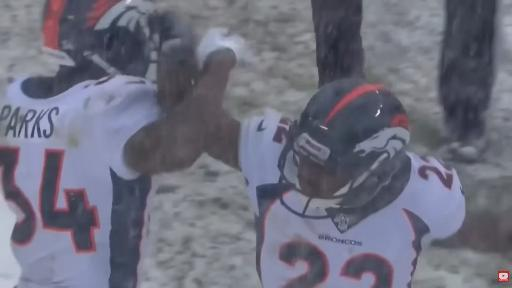Helmet: (278, 78, 409, 216), (43, 0, 159, 79)
Jersey: (239, 111, 465, 287), (0, 76, 159, 287), (0, 186, 20, 287)
Player: (167, 49, 510, 287), (0, 0, 196, 287)
